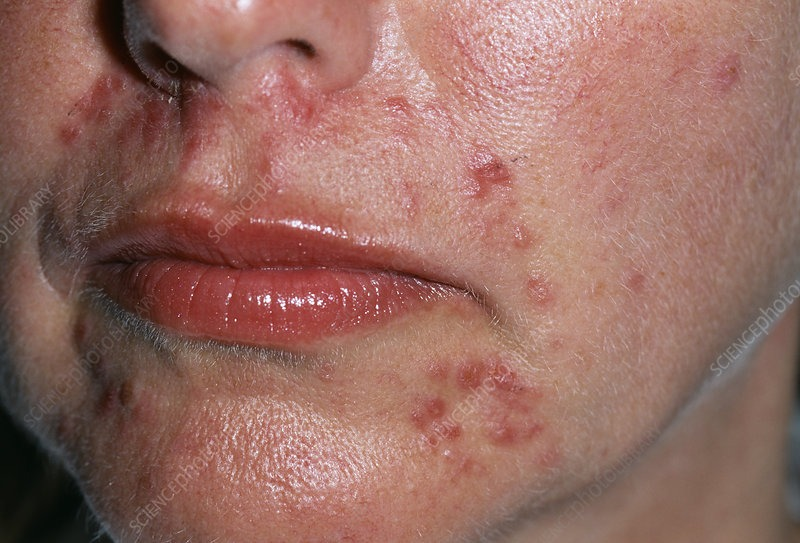Acne: (40, 75, 568, 477)
